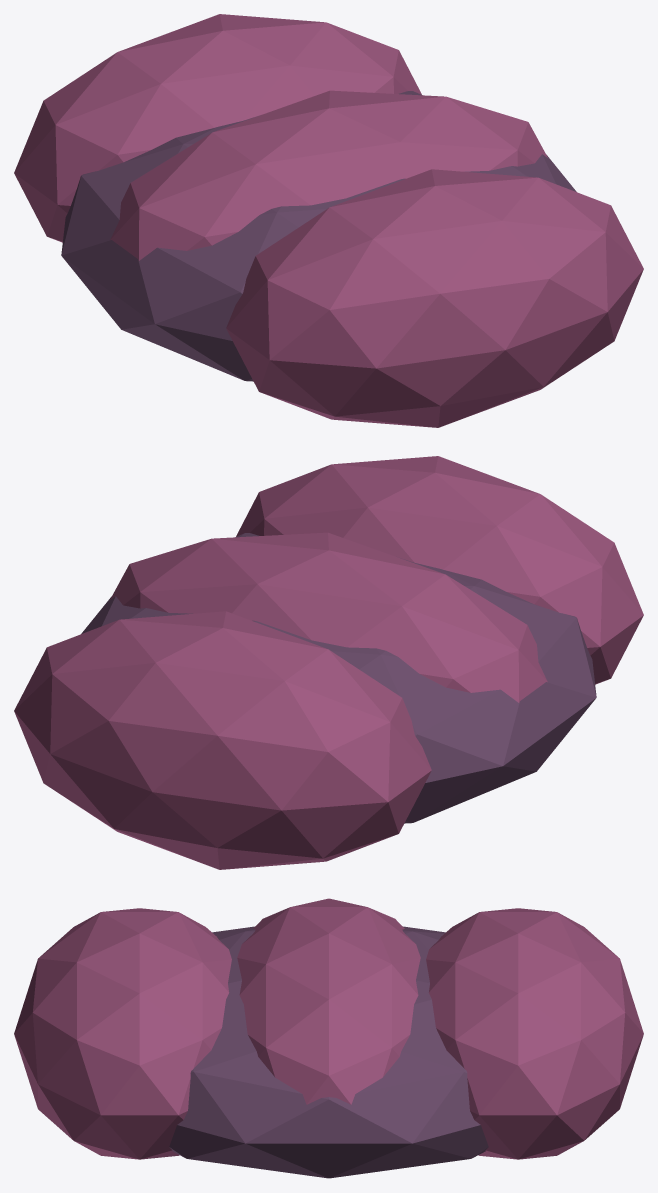
File: worm_meat.glb
3 renders of one model, top to bottom at view 1: azimuth 30°, elevation 25°; view 2: azimuth 150°, elevation 25°; view 3: azimuth 270°, elevation 25°, orthographic. The views are drawn at different scales.
Parts seen in each view (by area): view 1: Worm cut, Worm cut.001, Worm cut.002, Ribbed skin; view 2: Worm cut.002, Worm cut.001, Worm cut, Ribbed skin; view 3: Worm cut, Worm cut.002, Ribbed skin, Worm cut.001.
Part boxes in pixels (box(x1,y1,x2,y2)): Worm cut: box(226, 169, 643, 427); Worm cut.001: box(110, 90, 547, 260); Worm cut.002: box(14, 14, 421, 242); Ribbed skin: box(61, 91, 576, 381); Worm cut.002: box(14, 611, 431, 869); Worm cut.001: box(110, 532, 547, 702); Worm cut: box(236, 456, 643, 684); Ribbed skin: box(81, 533, 596, 823); Worm cut: box(14, 908, 231, 1159); Worm cut.002: box(426, 908, 643, 1159); Ribbed skin: box(169, 926, 488, 1178); Worm cut.001: box(237, 898, 420, 1104).
Size of the model in its own units: 0.3367 by 0.164 by 0.466.
